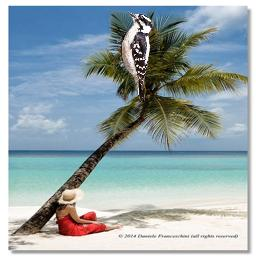Woodpecker: (117, 11, 154, 103)
